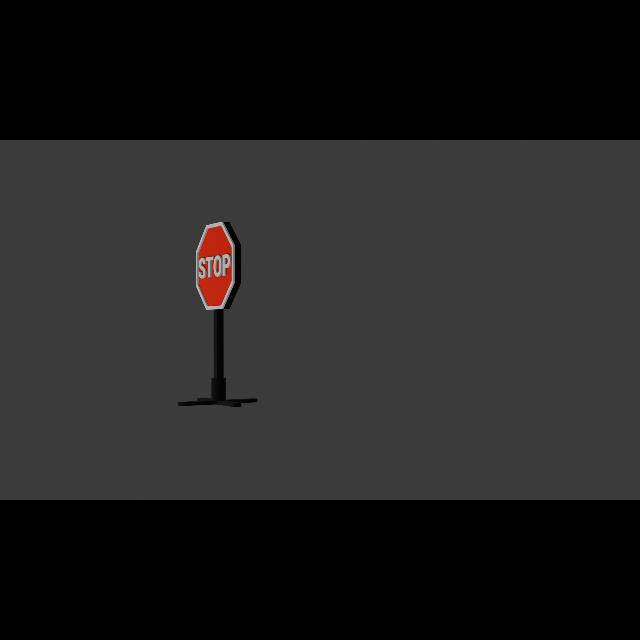sign_stop: (196, 222, 238, 311)
